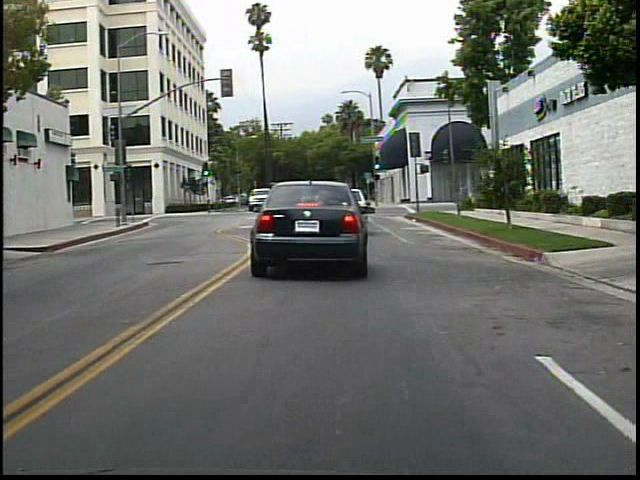person: (322, 179, 348, 220)
